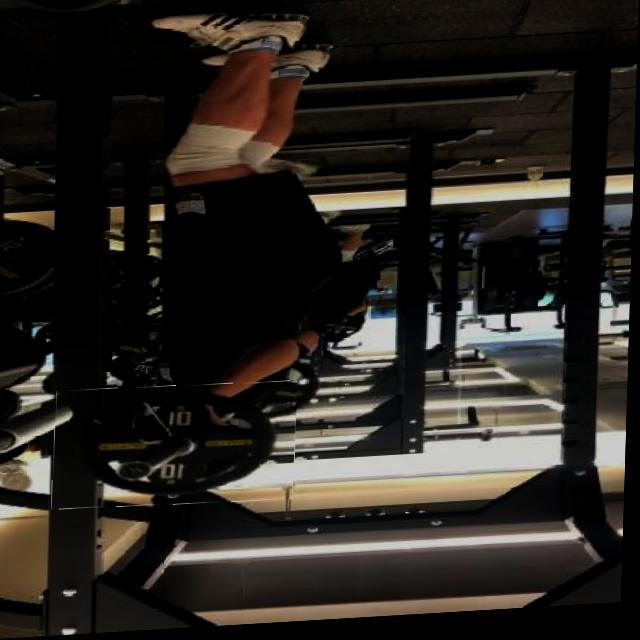barbell: (55, 383, 300, 514)
